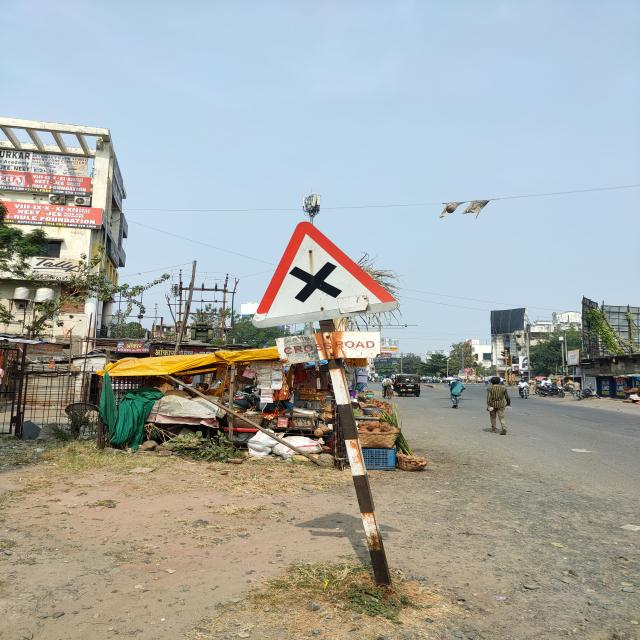CROSS_ROAD: (247, 222, 401, 332)
